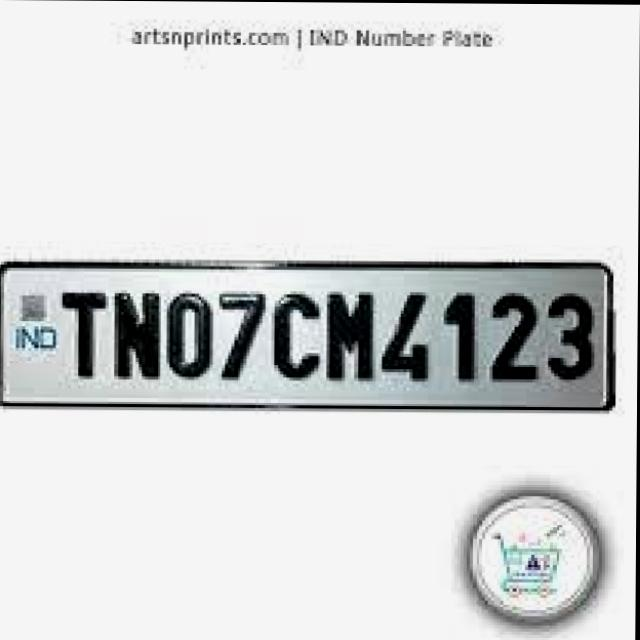0: (167, 293, 216, 381)
1: (443, 291, 483, 383)
2: (486, 292, 542, 382)
3: (547, 293, 595, 381)
4: (381, 293, 438, 380)
7: (219, 292, 265, 383)
c: (276, 294, 321, 379)
m: (325, 291, 381, 386)
n: (112, 292, 164, 380)
t: (60, 288, 110, 380)
